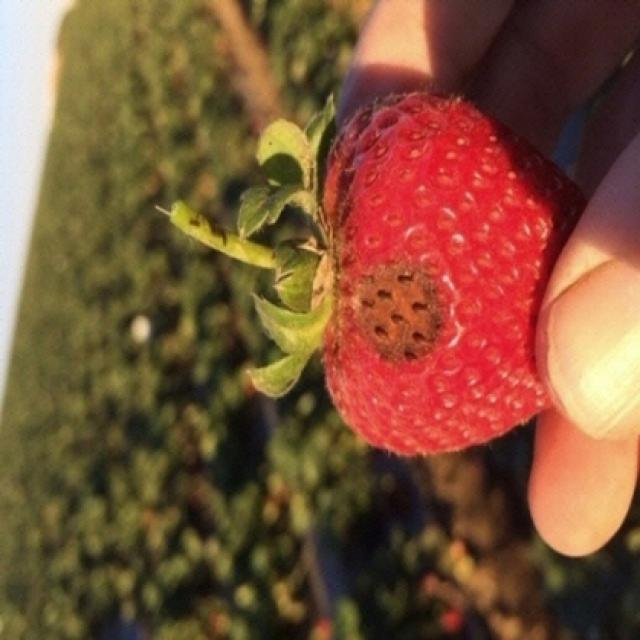Anthracnose Fruit Rot: (321, 100, 586, 459)
